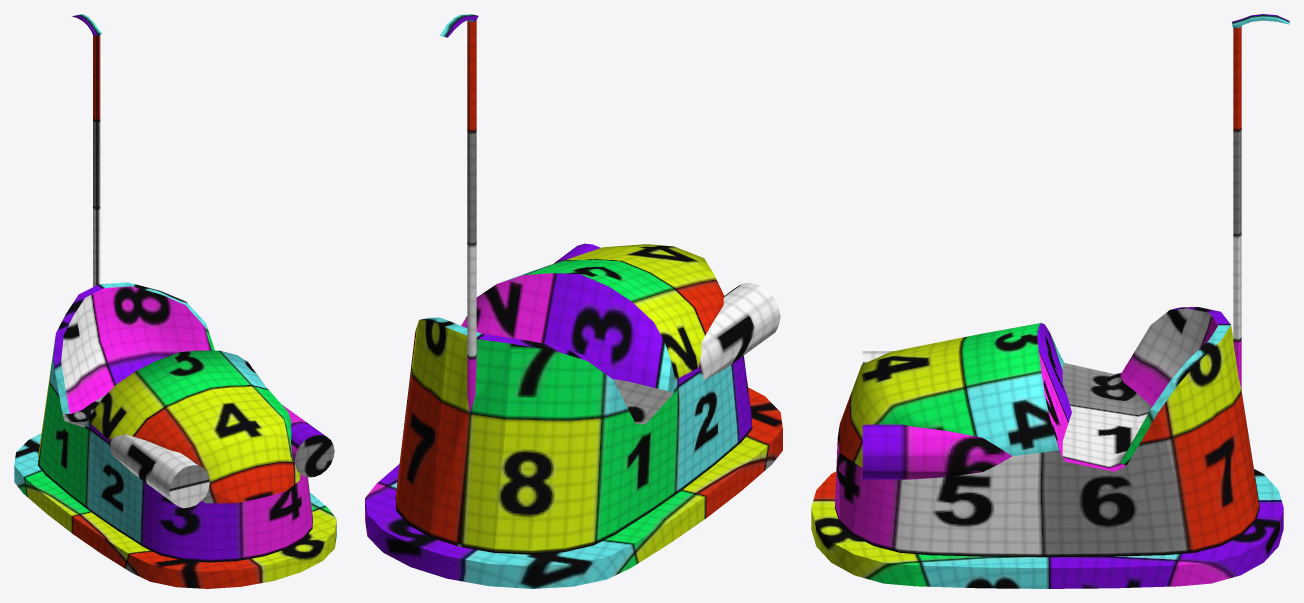
Rendered from ClassicBumperCar.fbx.
3 views of the same model, side by side, from view 1: azimuth 30°, elevation 25°; view 2: azimuth 150°, elevation 25°; view 3: azimuth 270°, elevation 25° (orthographic). The views are drawn at different scales.
Parts seen in each view (by area): view 1: pCylinder9; view 2: pCylinder9; view 3: pCylinder9.
Part boxes in pixels (left/top/right/bottom): pCylinder9: left=14, top=14, right=336, bottom=588; pCylinder9: left=365, top=14, right=782, bottom=588; pCylinder9: left=811, top=14, right=1289, bottom=588.
Size of the model in its own units: 24.74 by 49.14 by 41.56.
